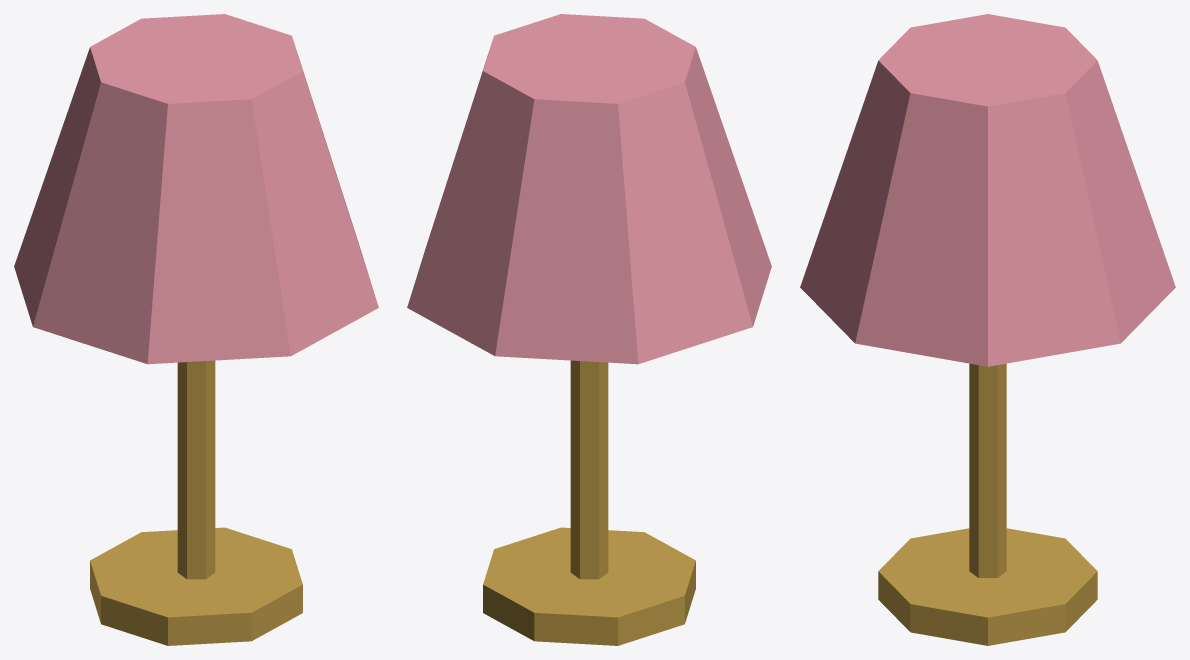
Rendered from tableLamp.fbx.
3 renders of one model, left to right at view 1: azimuth 30°, elevation 25°; view 2: azimuth 150°, elevation 25°; view 3: azimuth 270°, elevation 25°, orthographic.
Parts seen in each view (by area): view 1: tableLamp; view 2: tableLamp; view 3: tableLamp.
Part boxes in pixels (x1=…): tableLamp: x1=14, y1=14, x2=378, y2=645; tableLamp: x1=407, y1=14, x2=771, y2=645; tableLamp: x1=800, y1=14, x2=1175, y2=645.
Bounding box in the file's own units: 0.96 × 1.52 × 0.96.
